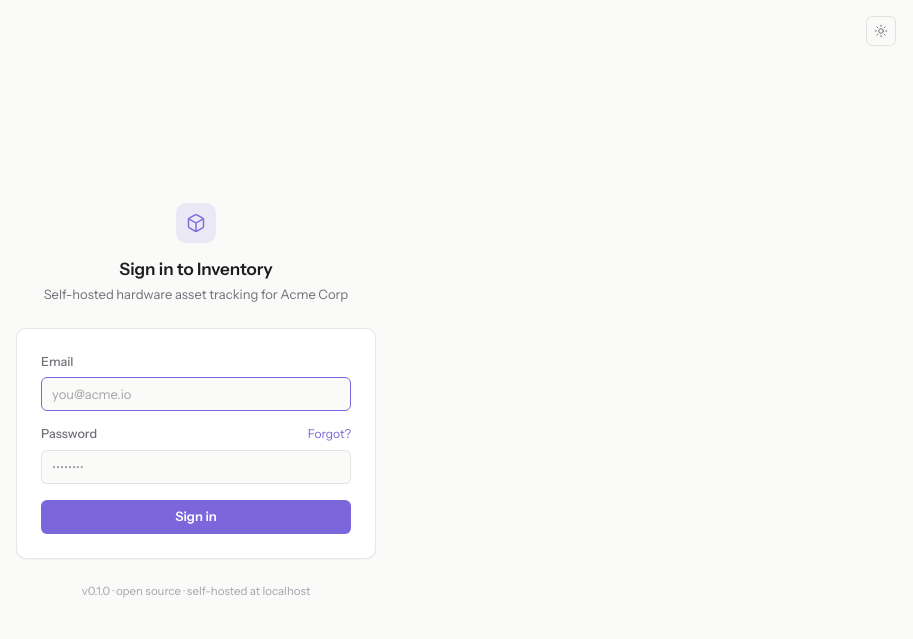
Scenario: login › shows the server message when the credentials are wrong
Expected: the heading "Sign in to Inventory" is shown, [119, 259, 273, 279]
Type "tomasz@acme.io" into the field labelled "Email". click: (196, 394)
box: [41, 377, 351, 411]
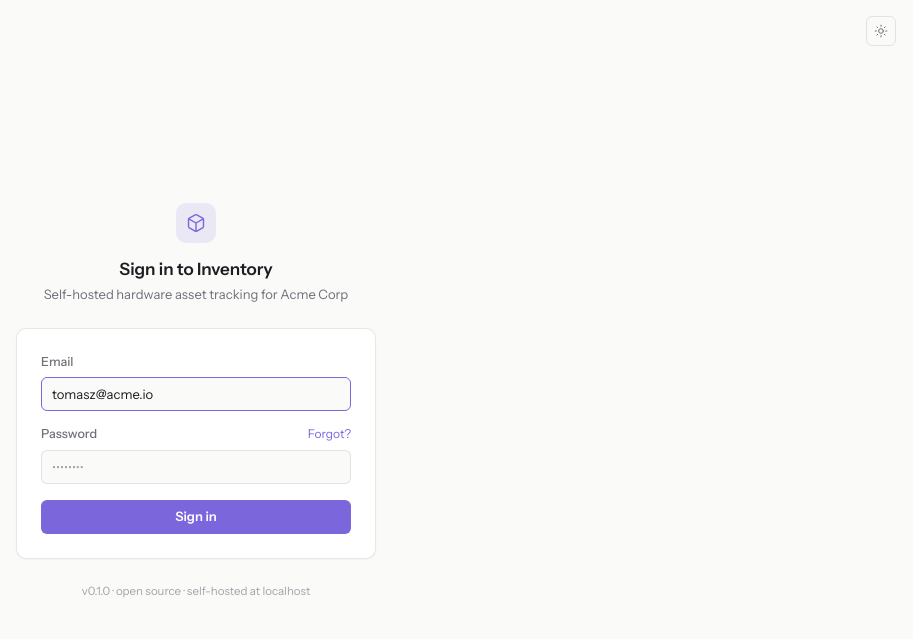
Type "wrong-password" into the password field labelled "Password". click: (196, 466)
box: [41, 450, 351, 484]
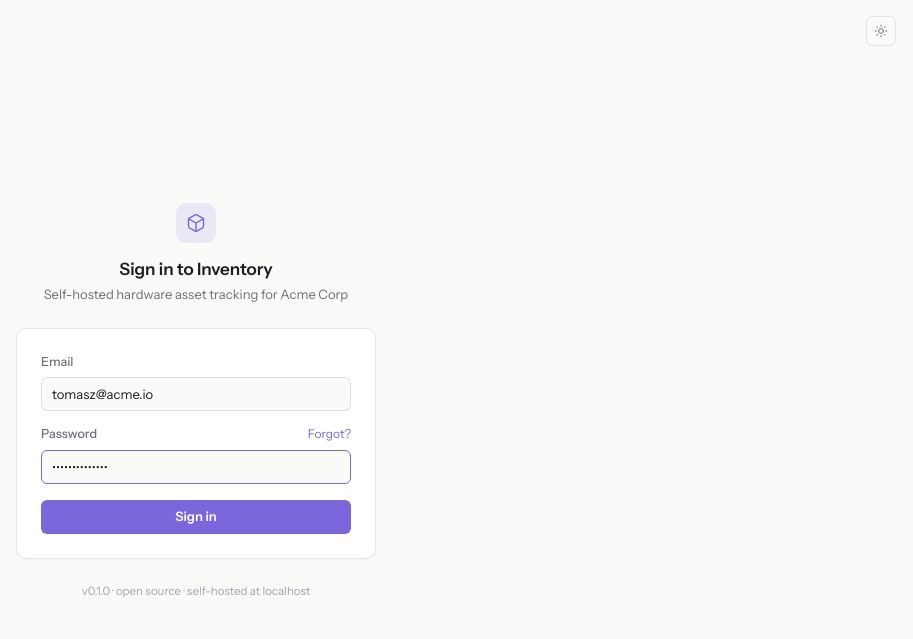
Click the button "Sign in". click: (196, 516)
box: [41, 500, 351, 534]
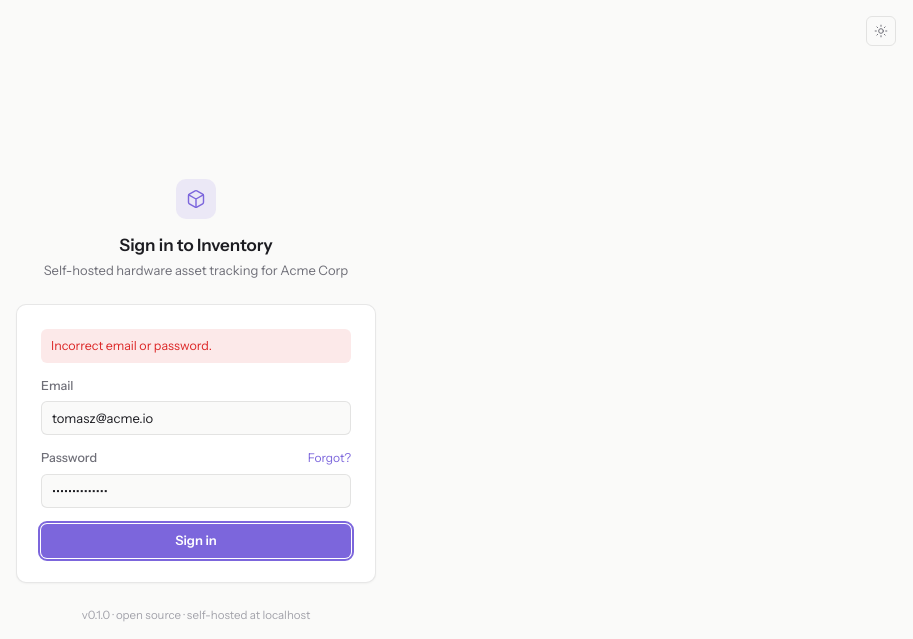
Expected: the text "Incorrect email or password." is shown, [41, 329, 351, 363]
